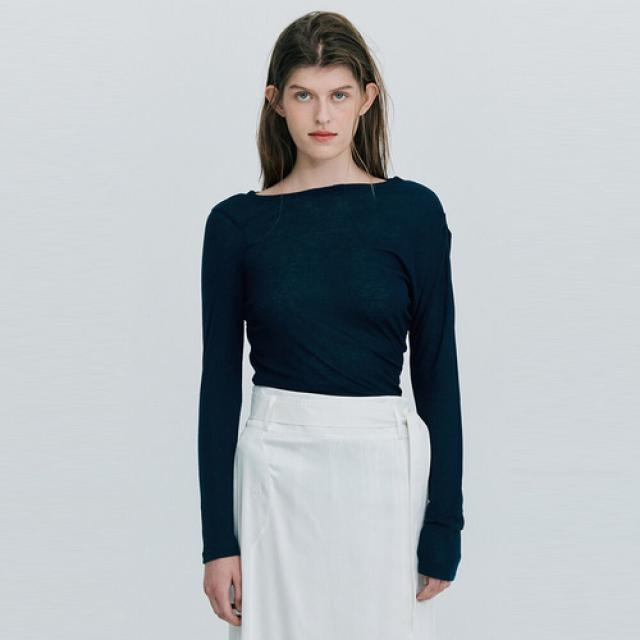Long-sleeves_black-white: (186, 158, 487, 626)
